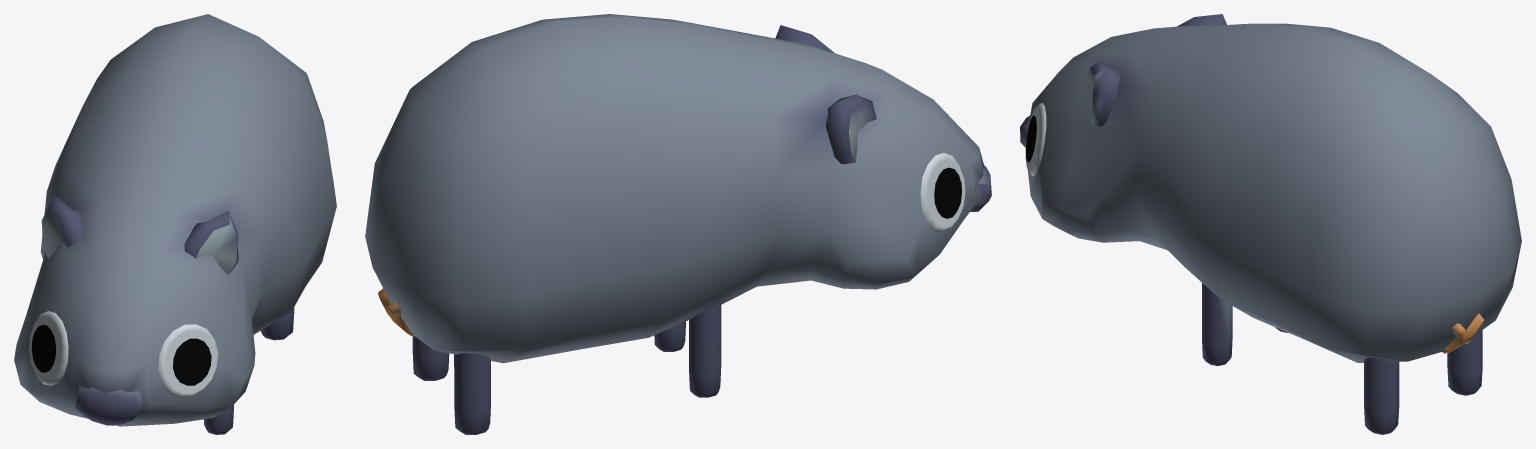
File: Wombat.glb
3 renders of one model, left to right at view 1: azimuth 30°, elevation 25°; view 2: azimuth 150°, elevation 25°; view 3: azimuth 270°, elevation 25°, orthographic. The views are drawn at different scales.
Visible parts, largest first — view 1: 176; view 2: 176; view 3: 176.
Boxes of the visible parts, x1=… form: 176: x1=14, y1=14, x2=336, y2=434; 176: x1=365, y1=14, x2=991, y2=434; 176: x1=1020, y1=14, x2=1521, y2=434.
Bounding box in the file's own units: 0.8212 × 0.6527 × 0.8717.
